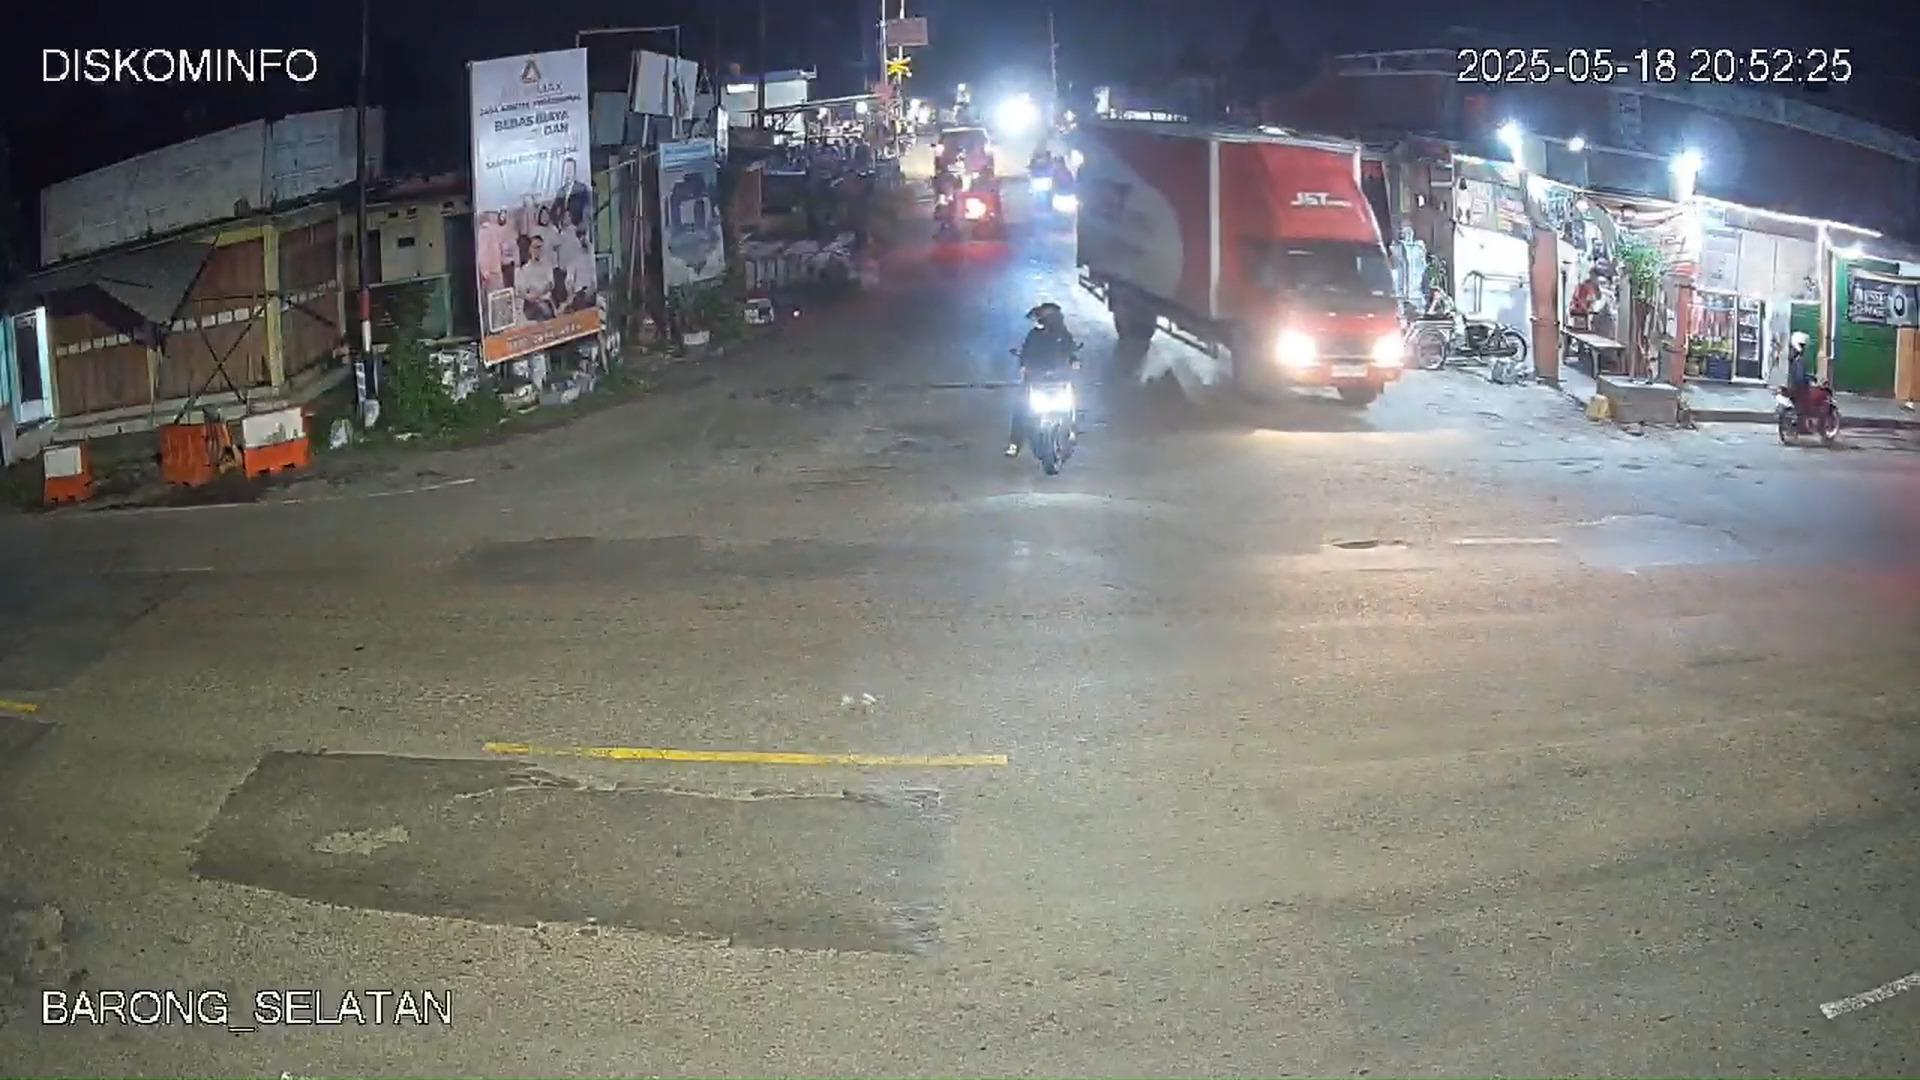Motor: (1000, 309, 1080, 472), (1774, 375, 1842, 447)
Truck: (1093, 116, 1382, 419)
mobil: (936, 125, 996, 182)
